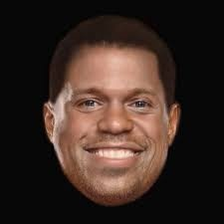no_mask: (61, 49, 167, 197)
